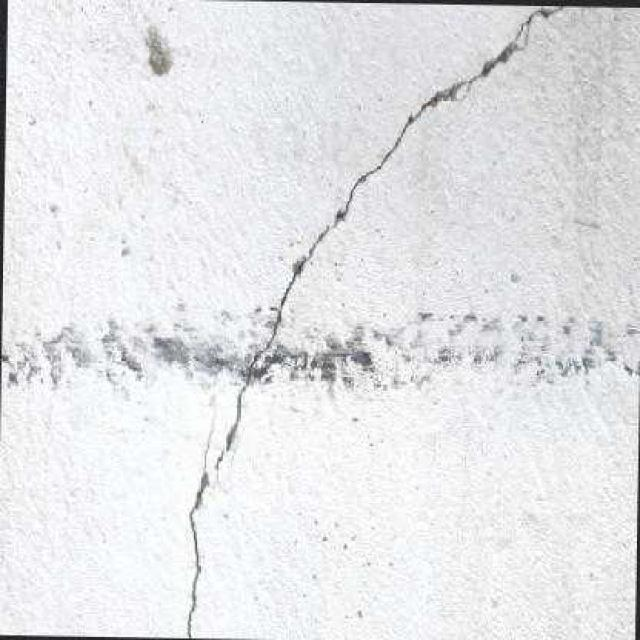D00: (224, 4, 567, 449), (185, 468, 205, 638)
